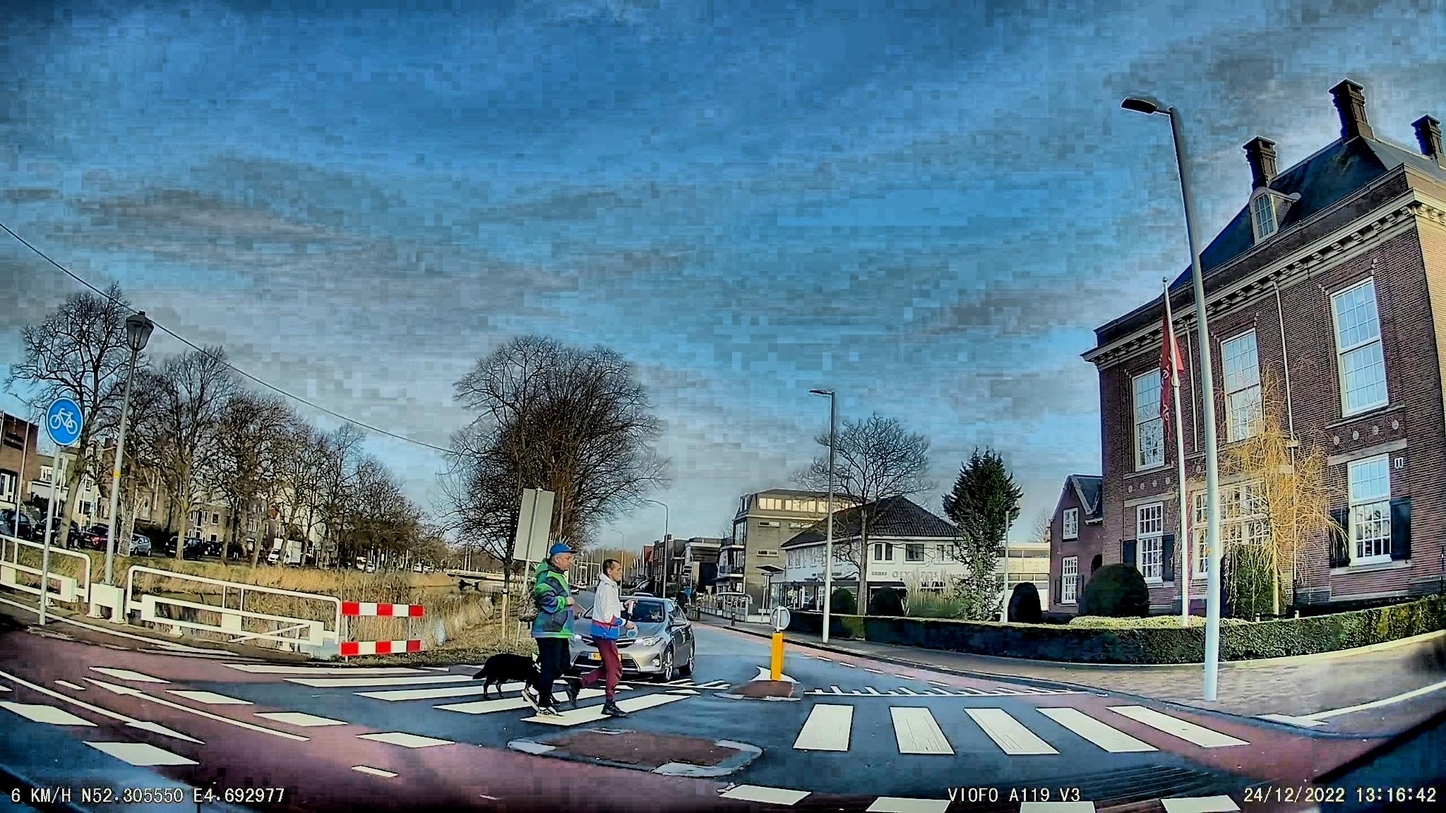Roads: (0, 627, 1233, 813)
